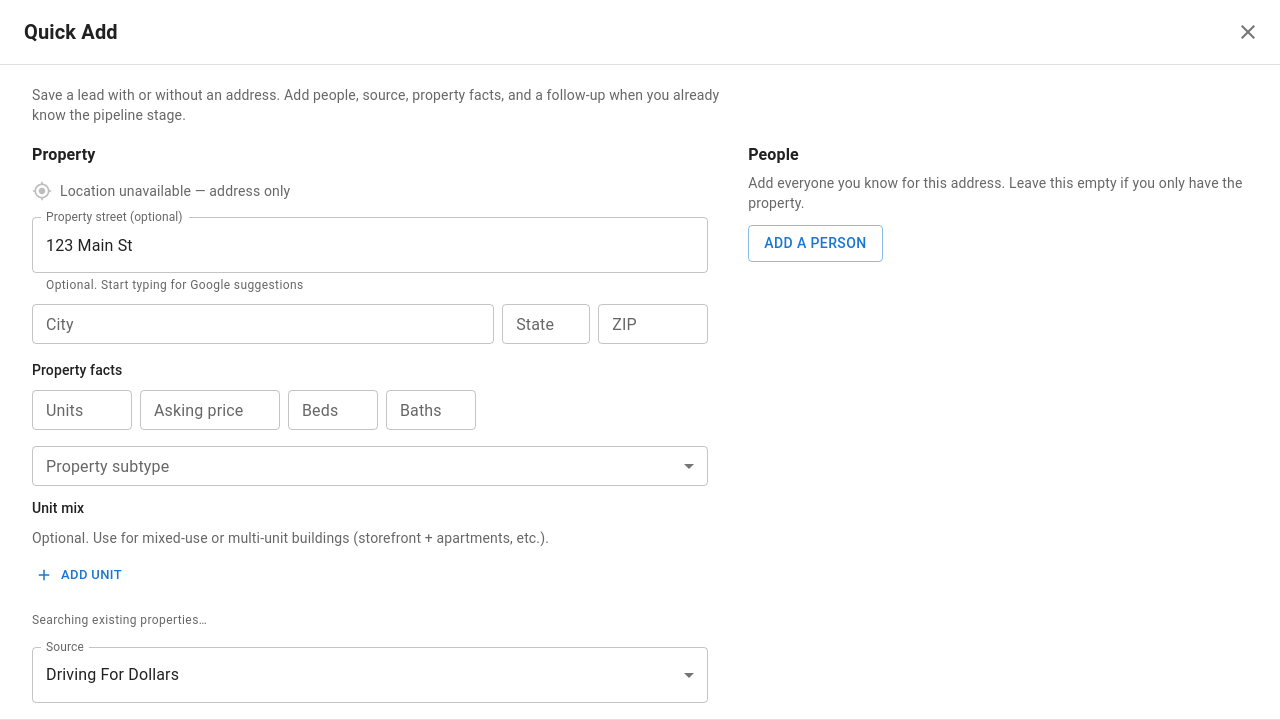
Scenario: QuickAddPage deprioritized matches › deletes an unlinked person and makes the next saved person primary
Click the button with test id "quick-add-add-person" at coordinates (815, 243), box [748,225,883,262]
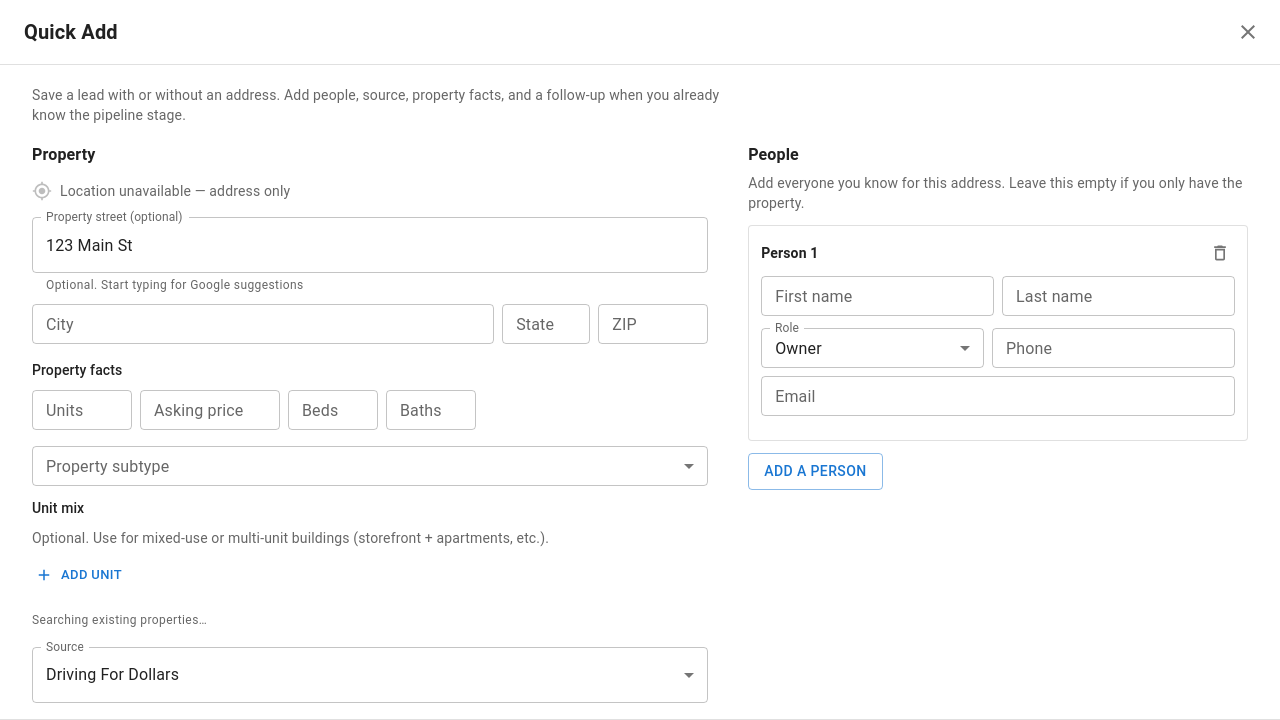
Type "Ada" into the field named "First name 1" at coordinates (878, 296), box [761,276,994,316]
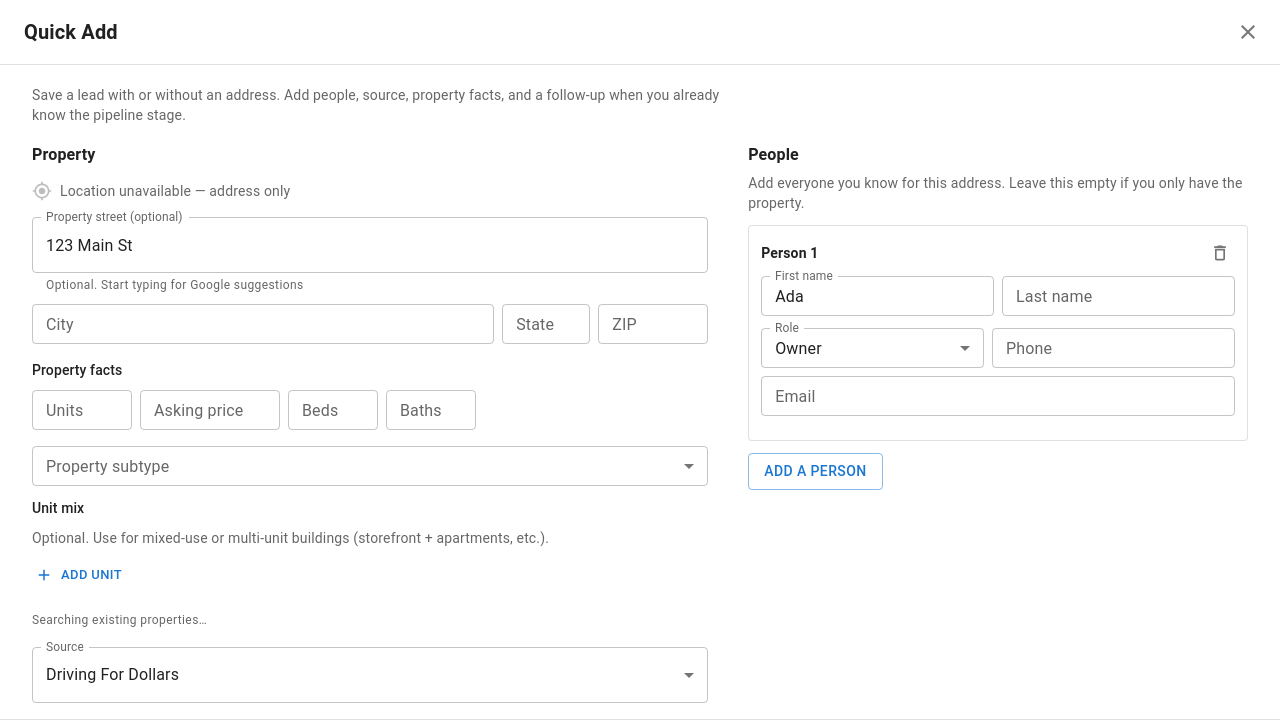
Click the button with test id "quick-add-add-person" at coordinates (815, 471), box [748,453,883,490]
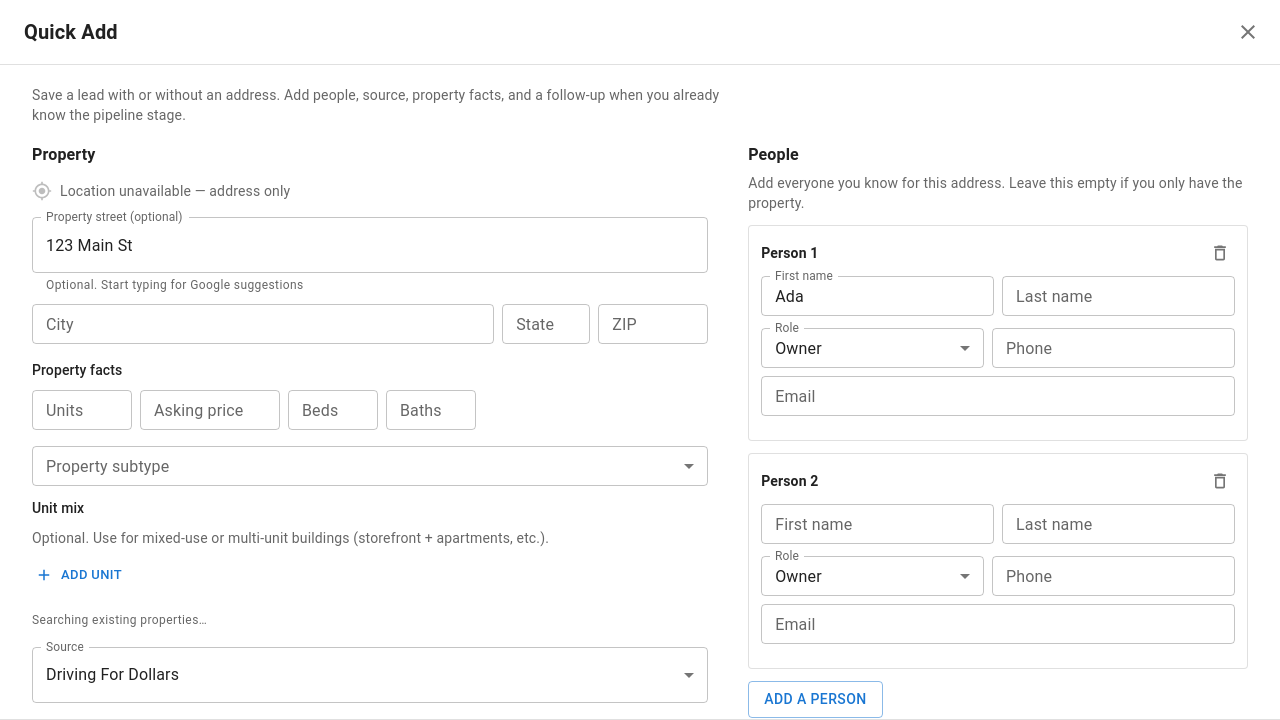
Type "Grace" into the field named "First name 2" at coordinates (878, 524), box [761,504,994,544]
(page scrolled)
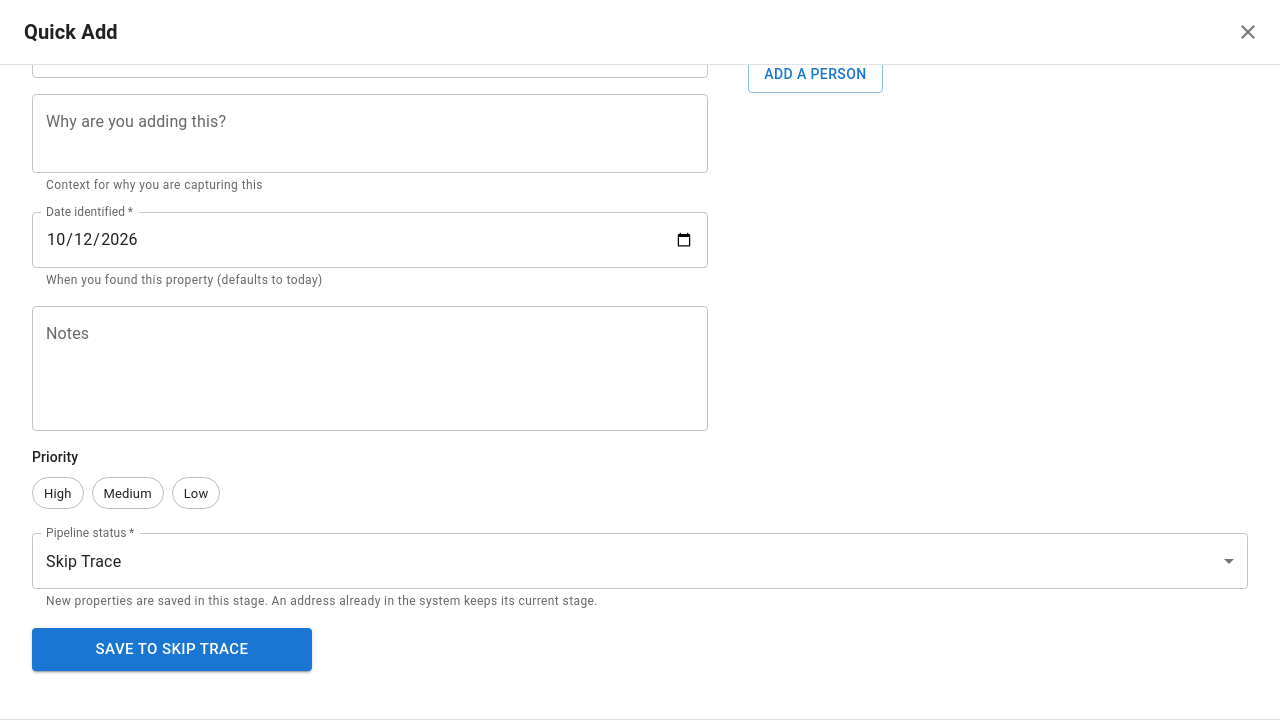
Click the button "Save to Skip Trace" at coordinates (172, 649), box [32,628,312,671]
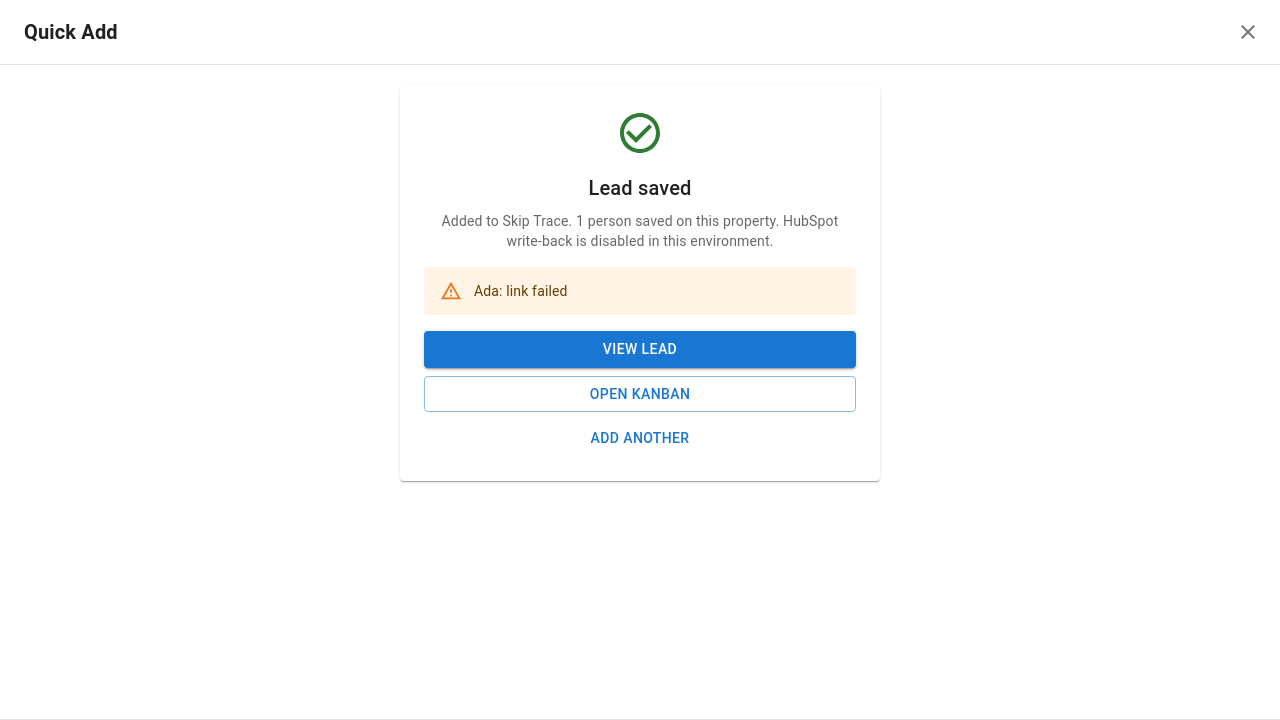
Result: the text "Ada: link failed" is shown at [474,283,568,299]
